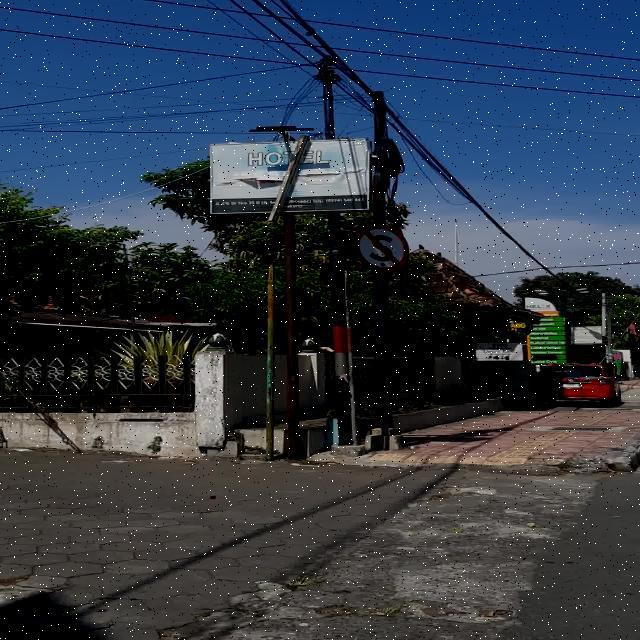Dilarang Berhenti: (354, 224, 408, 272)
